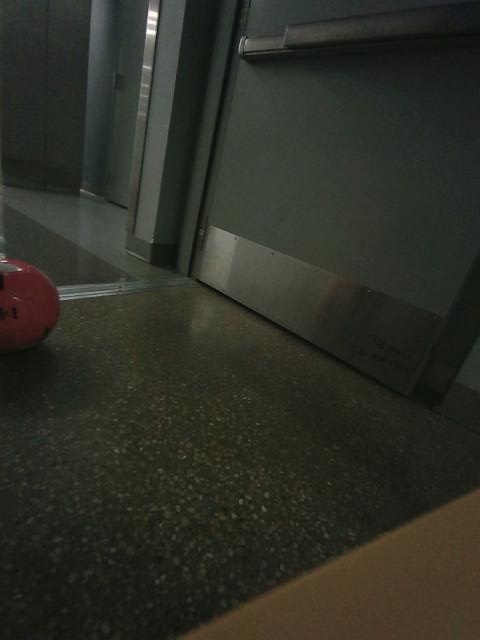ball: (0, 258, 58, 352)
